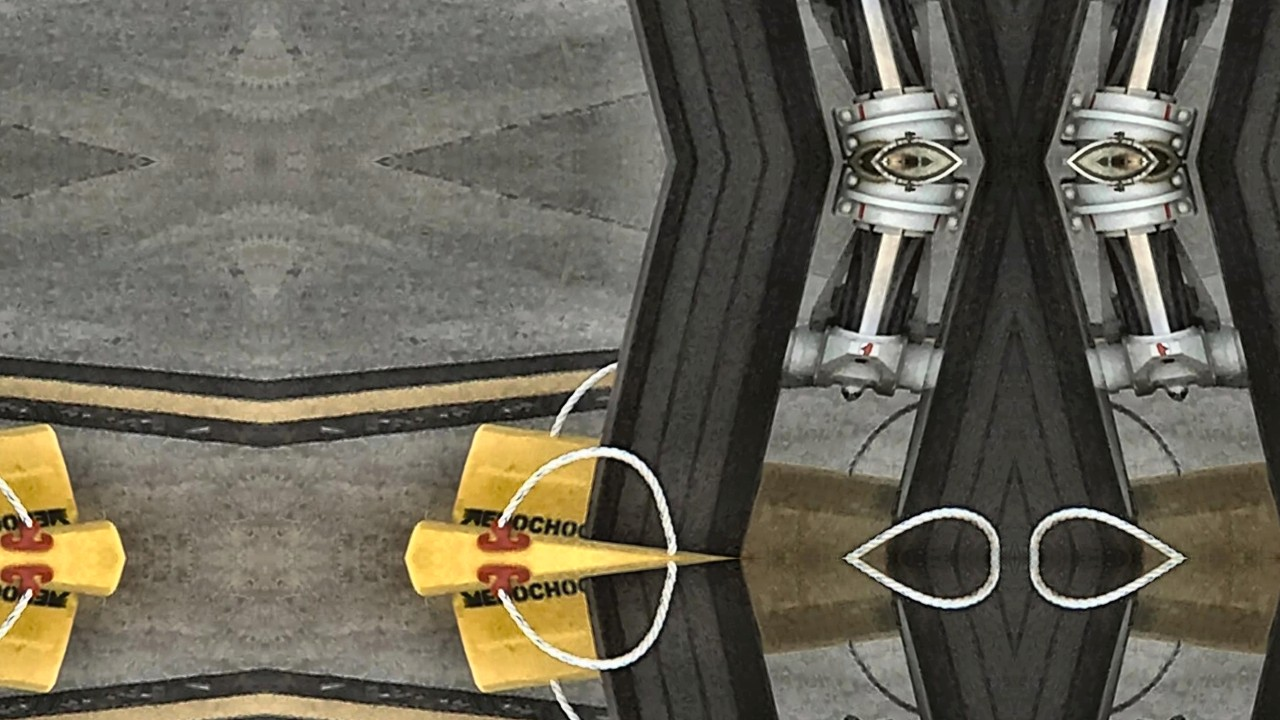chock: (439, 370, 1015, 559), (439, 558, 1015, 720), (375, 450, 1015, 559), (375, 559, 1015, 667), (1015, 370, 1280, 559), (1015, 558, 1280, 720), (1015, 450, 1280, 559), (1015, 559, 1280, 667), (0, 370, 91, 559), (0, 450, 155, 559), (0, 559, 155, 667), (0, 558, 91, 720)
wheel: (562, 161, 859, 559), (858, 161, 1015, 559), (1015, 161, 1172, 559), (562, 0, 859, 162), (562, 558, 859, 720), (1171, 161, 1280, 559), (858, 0, 1015, 162), (1015, 0, 1172, 162), (858, 558, 1015, 720), (1015, 558, 1172, 720), (1171, 0, 1280, 162), (1171, 558, 1280, 720)
